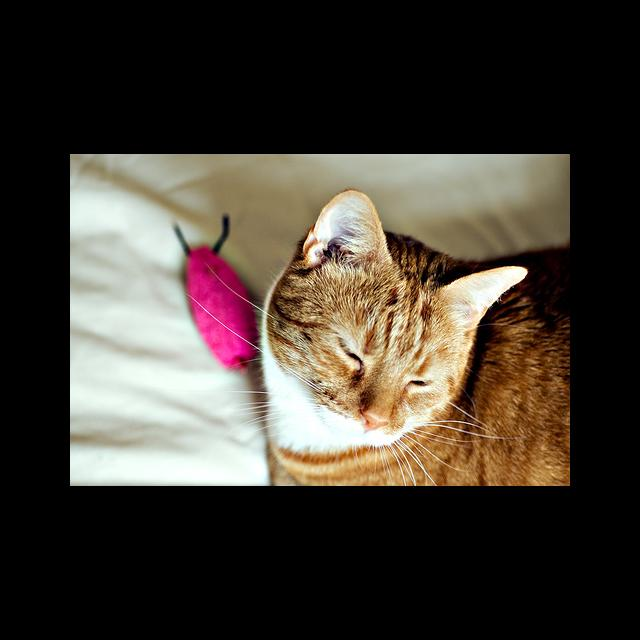animals: (305, 191, 526, 429)
